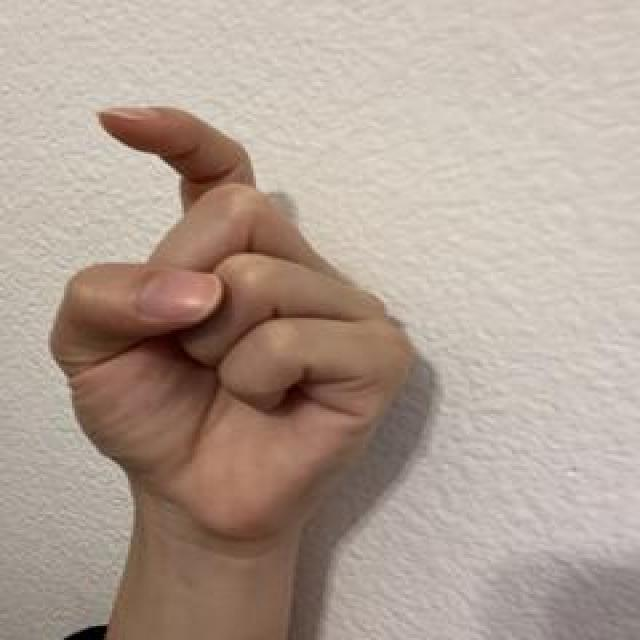X: (40, 102, 419, 546)
